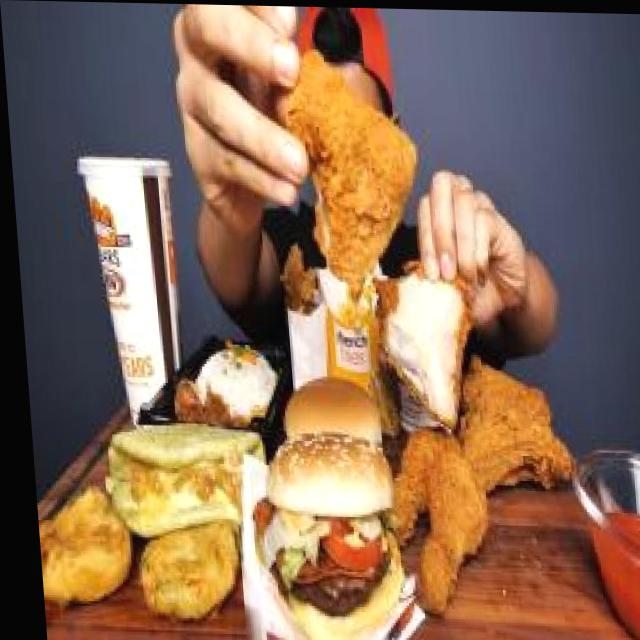AW cola: (68, 138, 192, 418)
black pepper rice bowl: (154, 334, 283, 435)
cheese burger: (268, 359, 382, 461)
chicken waffle: (269, 236, 330, 355)
french fries: (323, 273, 375, 347)
fried chicken: (374, 336, 563, 614), (269, 33, 432, 305), (364, 251, 479, 426)
mango chicken pocket: (89, 414, 269, 537)
mozza burger: (239, 419, 402, 634)
perkedel: (28, 475, 131, 622), (127, 510, 241, 622)
